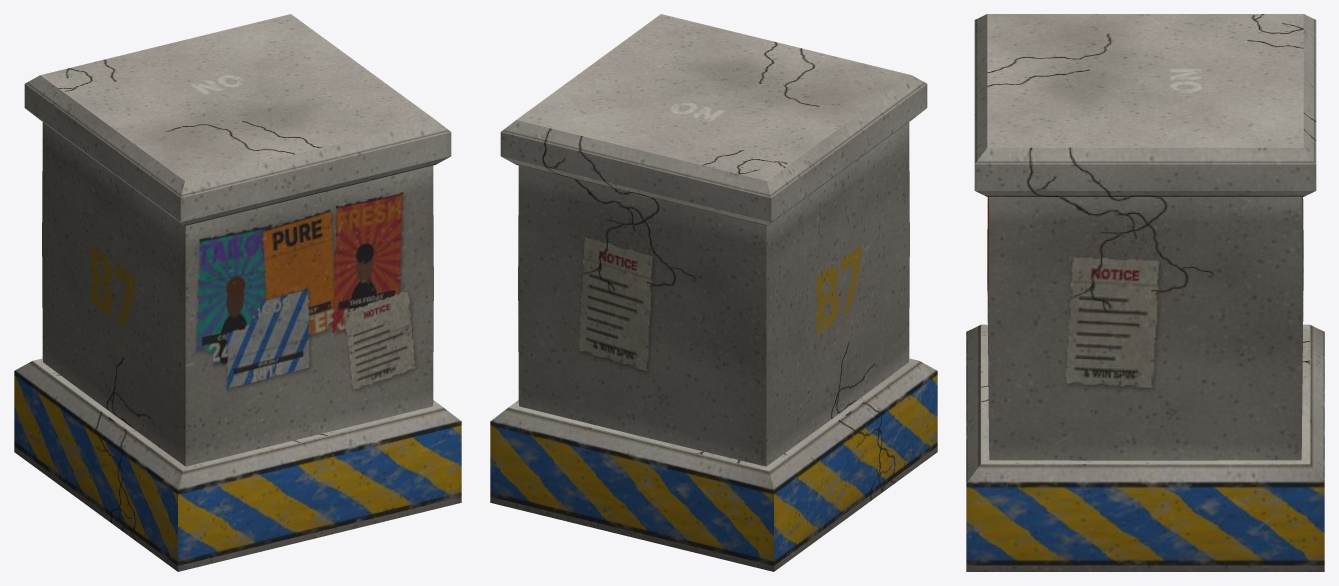
Rendered from prop_pillar_c.glb.
3 renders of one model, left to right at view 1: azimuth 30°, elevation 25°; view 2: azimuth 150°, elevation 25°; view 3: azimuth 270°, elevation 25°, orthographic. The views are drawn at different scales.
Parts seen in each view (by area): view 1: prop_pillar_c_body; view 2: prop_pillar_c_body; view 3: prop_pillar_c_body.
Part boxes in pixels (box(x1,y1,x2,y2)): prop_pillar_c_body: box(14, 14, 461, 571); prop_pillar_c_body: box(490, 14, 937, 571); prop_pillar_c_body: box(966, 14, 1324, 571).
Bounding box in the file's own units: 0.86 × 1.1 × 0.86.
Materials: 1 (1 with a texture image).
